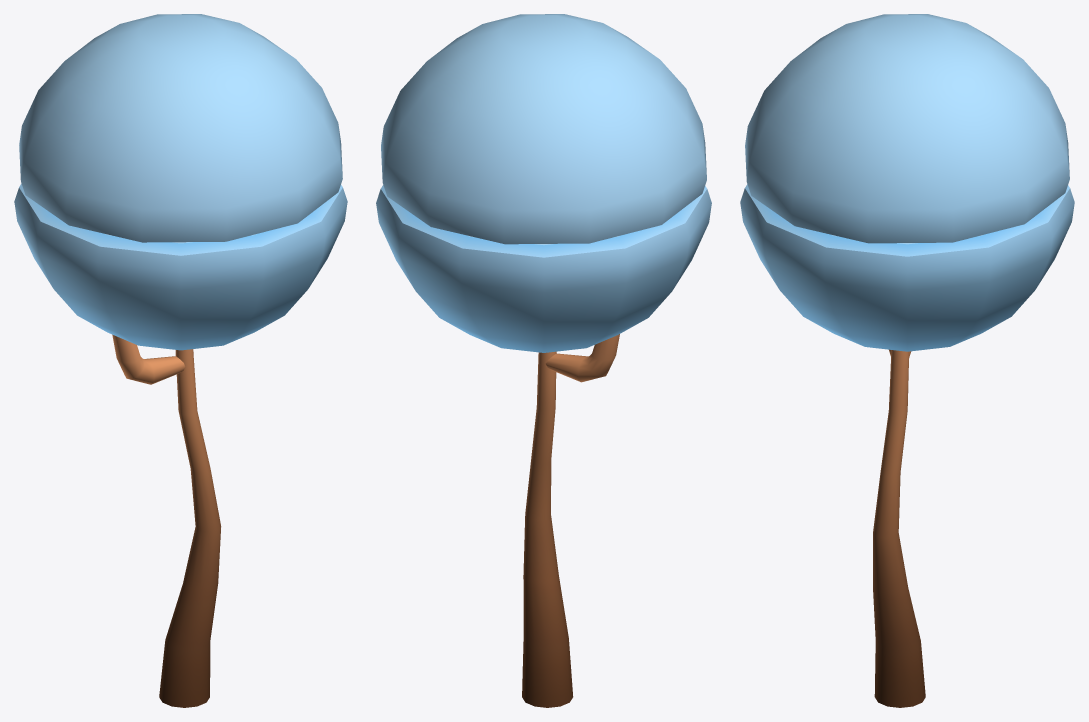
Rendered from lpb_tree_4_d.fbx.
3 renders of one model, left to right at view 1: azimuth 30°, elevation 25°; view 2: azimuth 150°, elevation 25°; view 3: azimuth 270°, elevation 25°, orthographic.
Visible parts, largest first — view 1: ap_tree_4.003; view 2: ap_tree_4.003; view 3: ap_tree_4.003.
Part boxes in pixels (x1,y1,x2,y2): ap_tree_4.003: [14, 14, 347, 707]; ap_tree_4.003: [376, 14, 711, 707]; ap_tree_4.003: [740, 14, 1074, 707].
Bounding box in the file's own units: 243 × 531 × 243.
